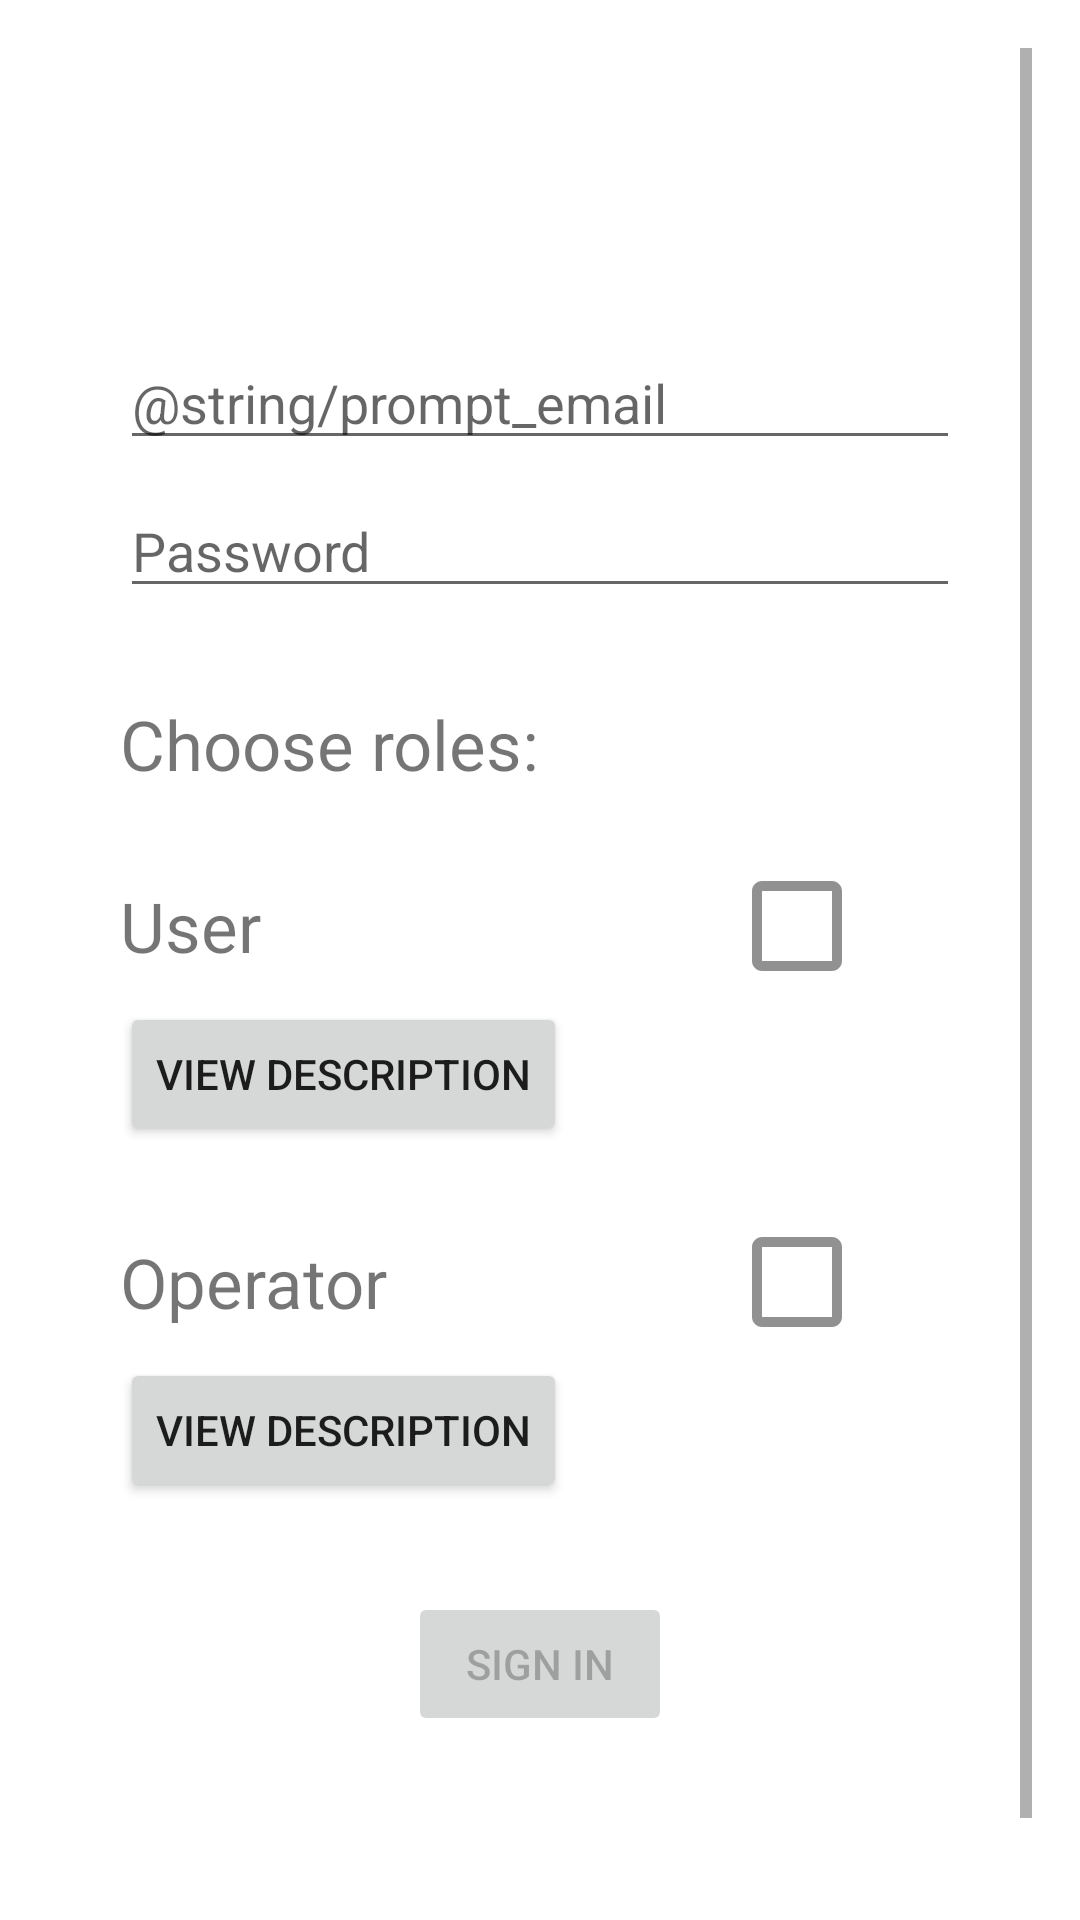

Where icons sit on this 1080px x 1920px app screen, as (left=x1, top=y1, right=x2, bottom=y2):
checkbox: (left=752, top=881, right=842, bottom=971), (left=752, top=1237, right=842, bottom=1327)
